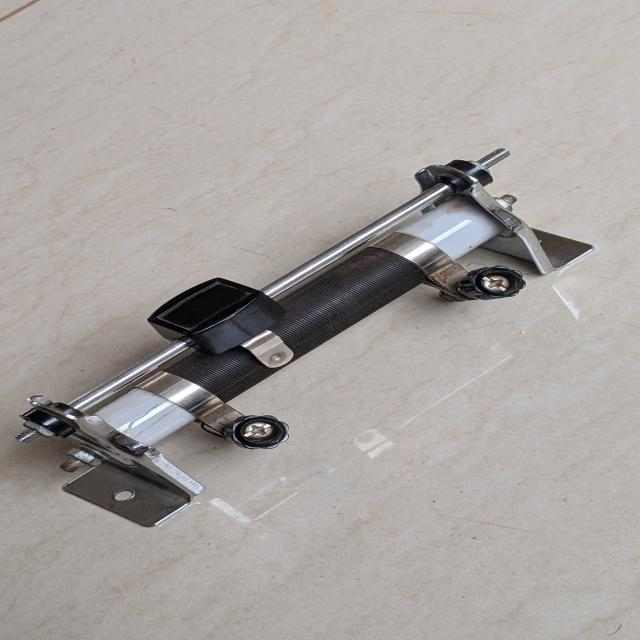Rheostat: (0, 119, 637, 554)
